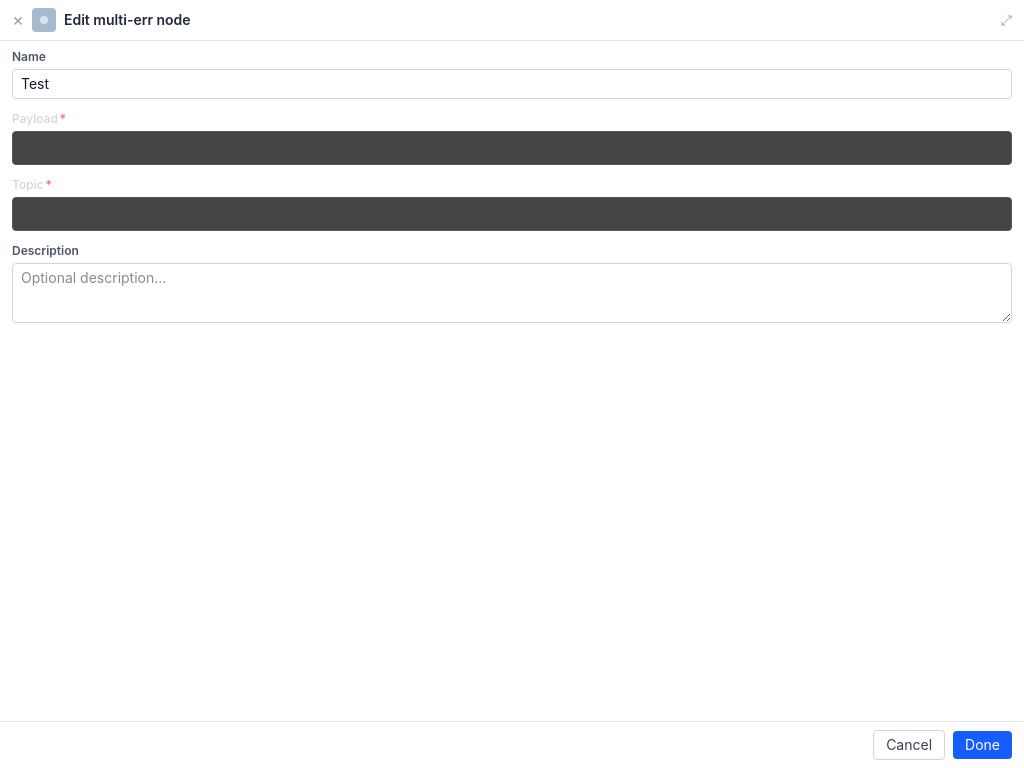
Test case: NodeEditorPanel › validation on save › shows error count for multiple errors
Click the button with test id "node-editor-btn-done" at point(983, 745), box 953,731 -> 1012,759
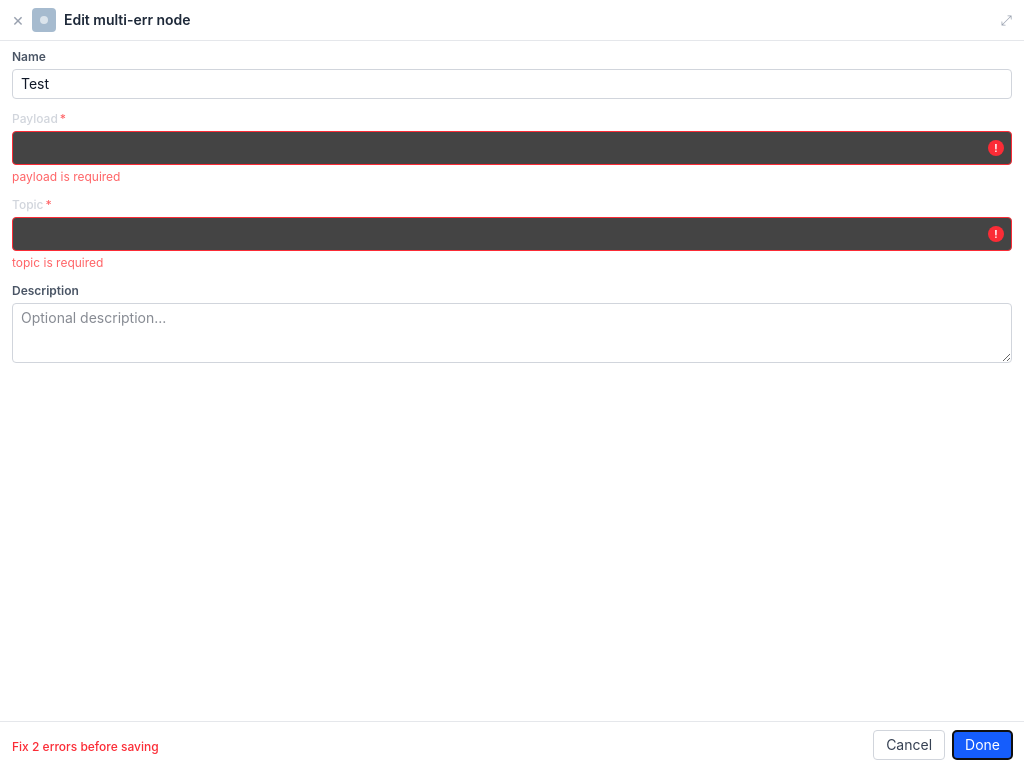
Result: the text with test id "node-editor-error-count" reads "Fix 2 errors before saving" at 12,739 -> 159,754
